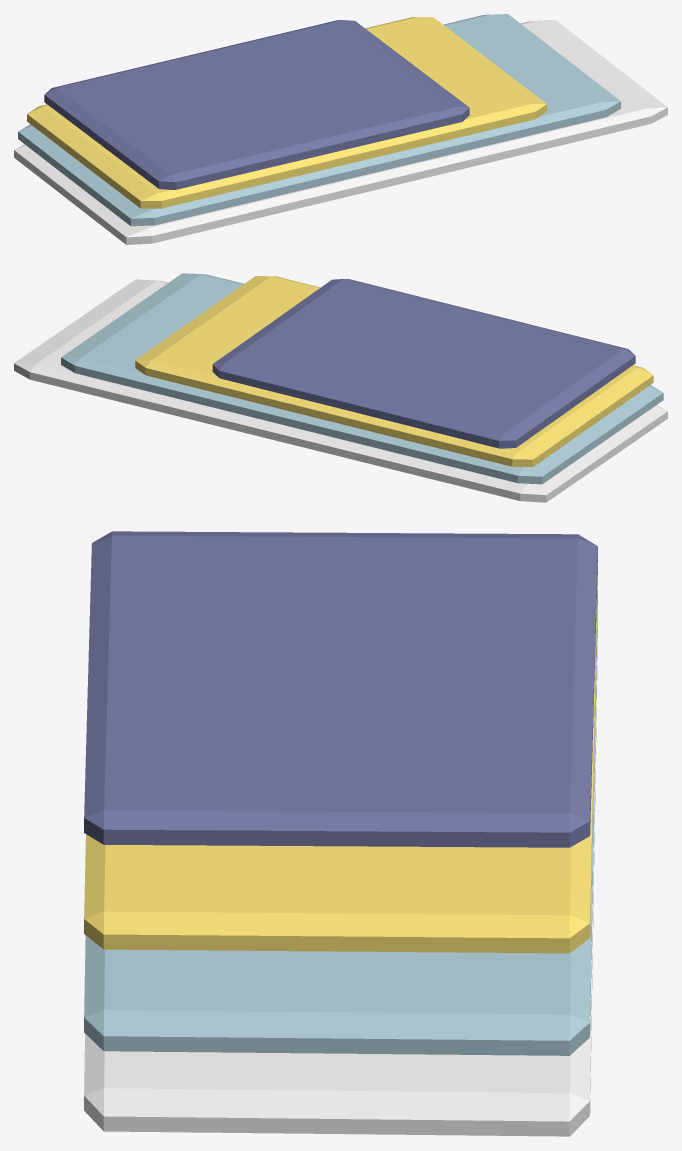
Rendered from Sheets.fbx.
The picture shows the model from 3 angles, top to bottom: view 1: azimuth 30°, elevation 25°; view 2: azimuth 150°, elevation 25°; view 3: azimuth 270°, elevation 25°; orthographic projection. The views are drawn at different scales.
Visible parts, largest first — view 1: Sheets; view 2: Sheets; view 3: Sheets.
Part boxes in pixels (bbox=[...]): Sheets: bbox=[14, 14, 667, 244]; Sheets: bbox=[14, 273, 667, 502]; Sheets: bbox=[84, 531, 597, 1136].
Bounding box in the file's own units: 94.42 × 38.93 × 10.47.
